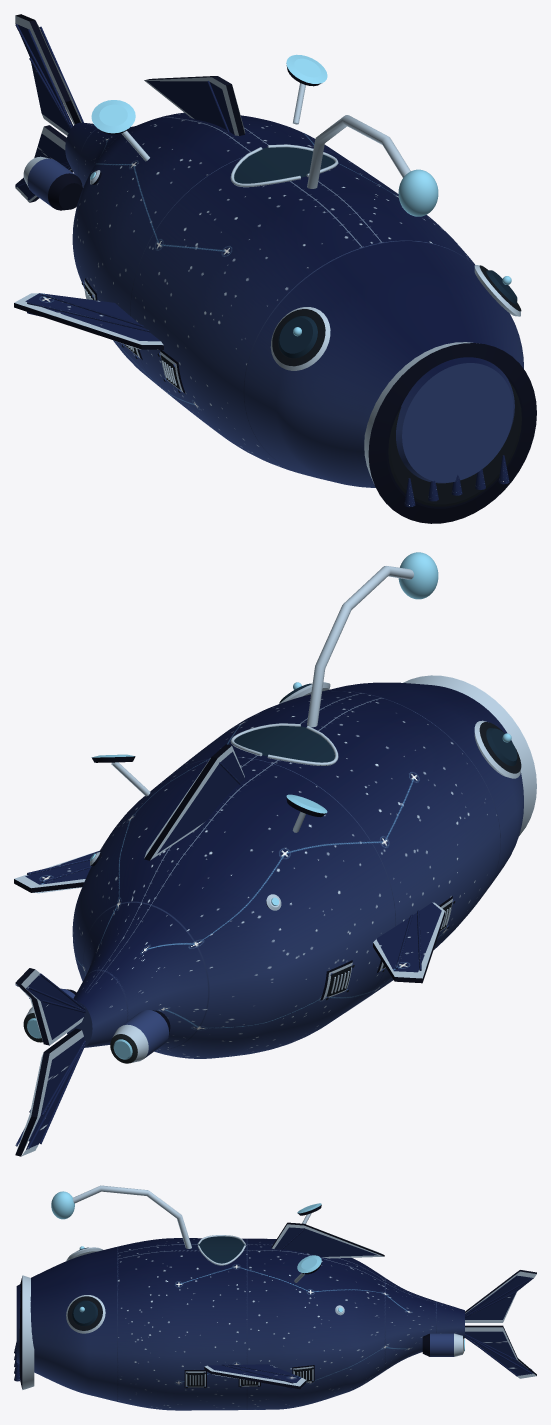
The picture shows the model from 3 angles, top to bottom: view 1: azimuth 30°, elevation 25°; view 2: azimuth 150°, elevation 25°; view 3: azimuth 270°, elevation 25°; orthographic projection. The views are drawn at different scales.
Parts seen in each view (by area): view 1: anglerfish_hull; view 2: anglerfish_hull; view 3: anglerfish_hull.
Boxes of the visible parts, x1,y1,x2,y2 form: anglerfish_hull: (14, 14, 536, 523); anglerfish_hull: (14, 552, 536, 1156); anglerfish_hull: (14, 1185, 536, 1410).
Bounding box in the file's own units: 9.08 × 7.72 × 17.
Materials: 1 (1 with a texture image).
